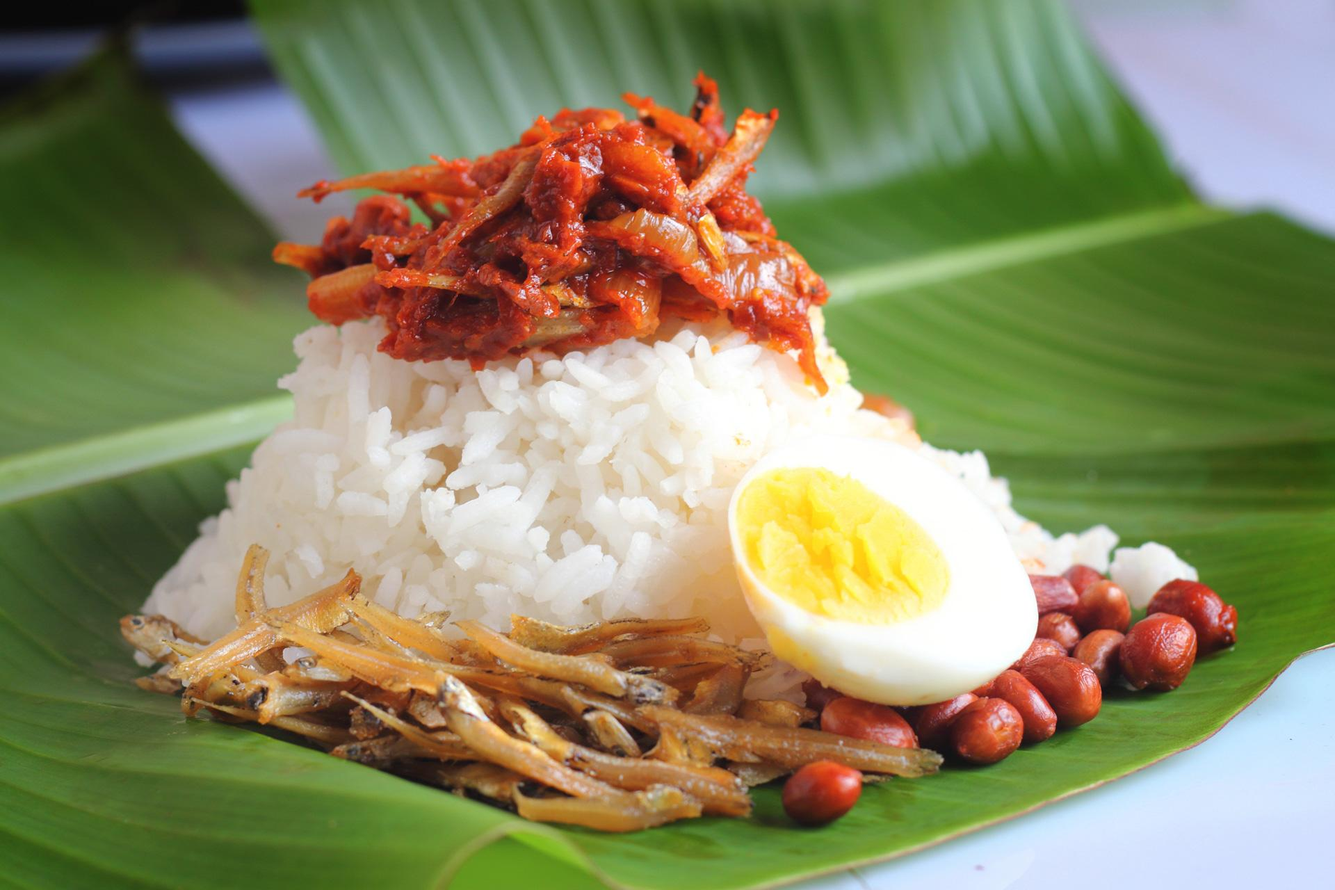Anchovies: (118, 552, 946, 824)
Boiled-Egg: (722, 439, 1040, 711)
Peanuts: (819, 567, 1238, 767)
Rice: (142, 322, 1204, 641)
Sambal: (266, 81, 832, 387)
